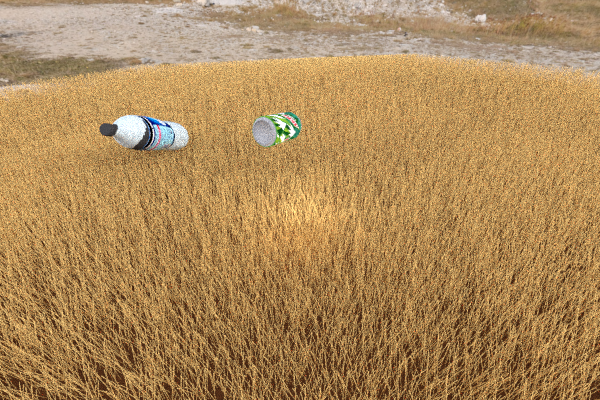bottle: (99, 115, 188, 150)
can: (274, 187, 384, 270), (252, 111, 301, 147)
